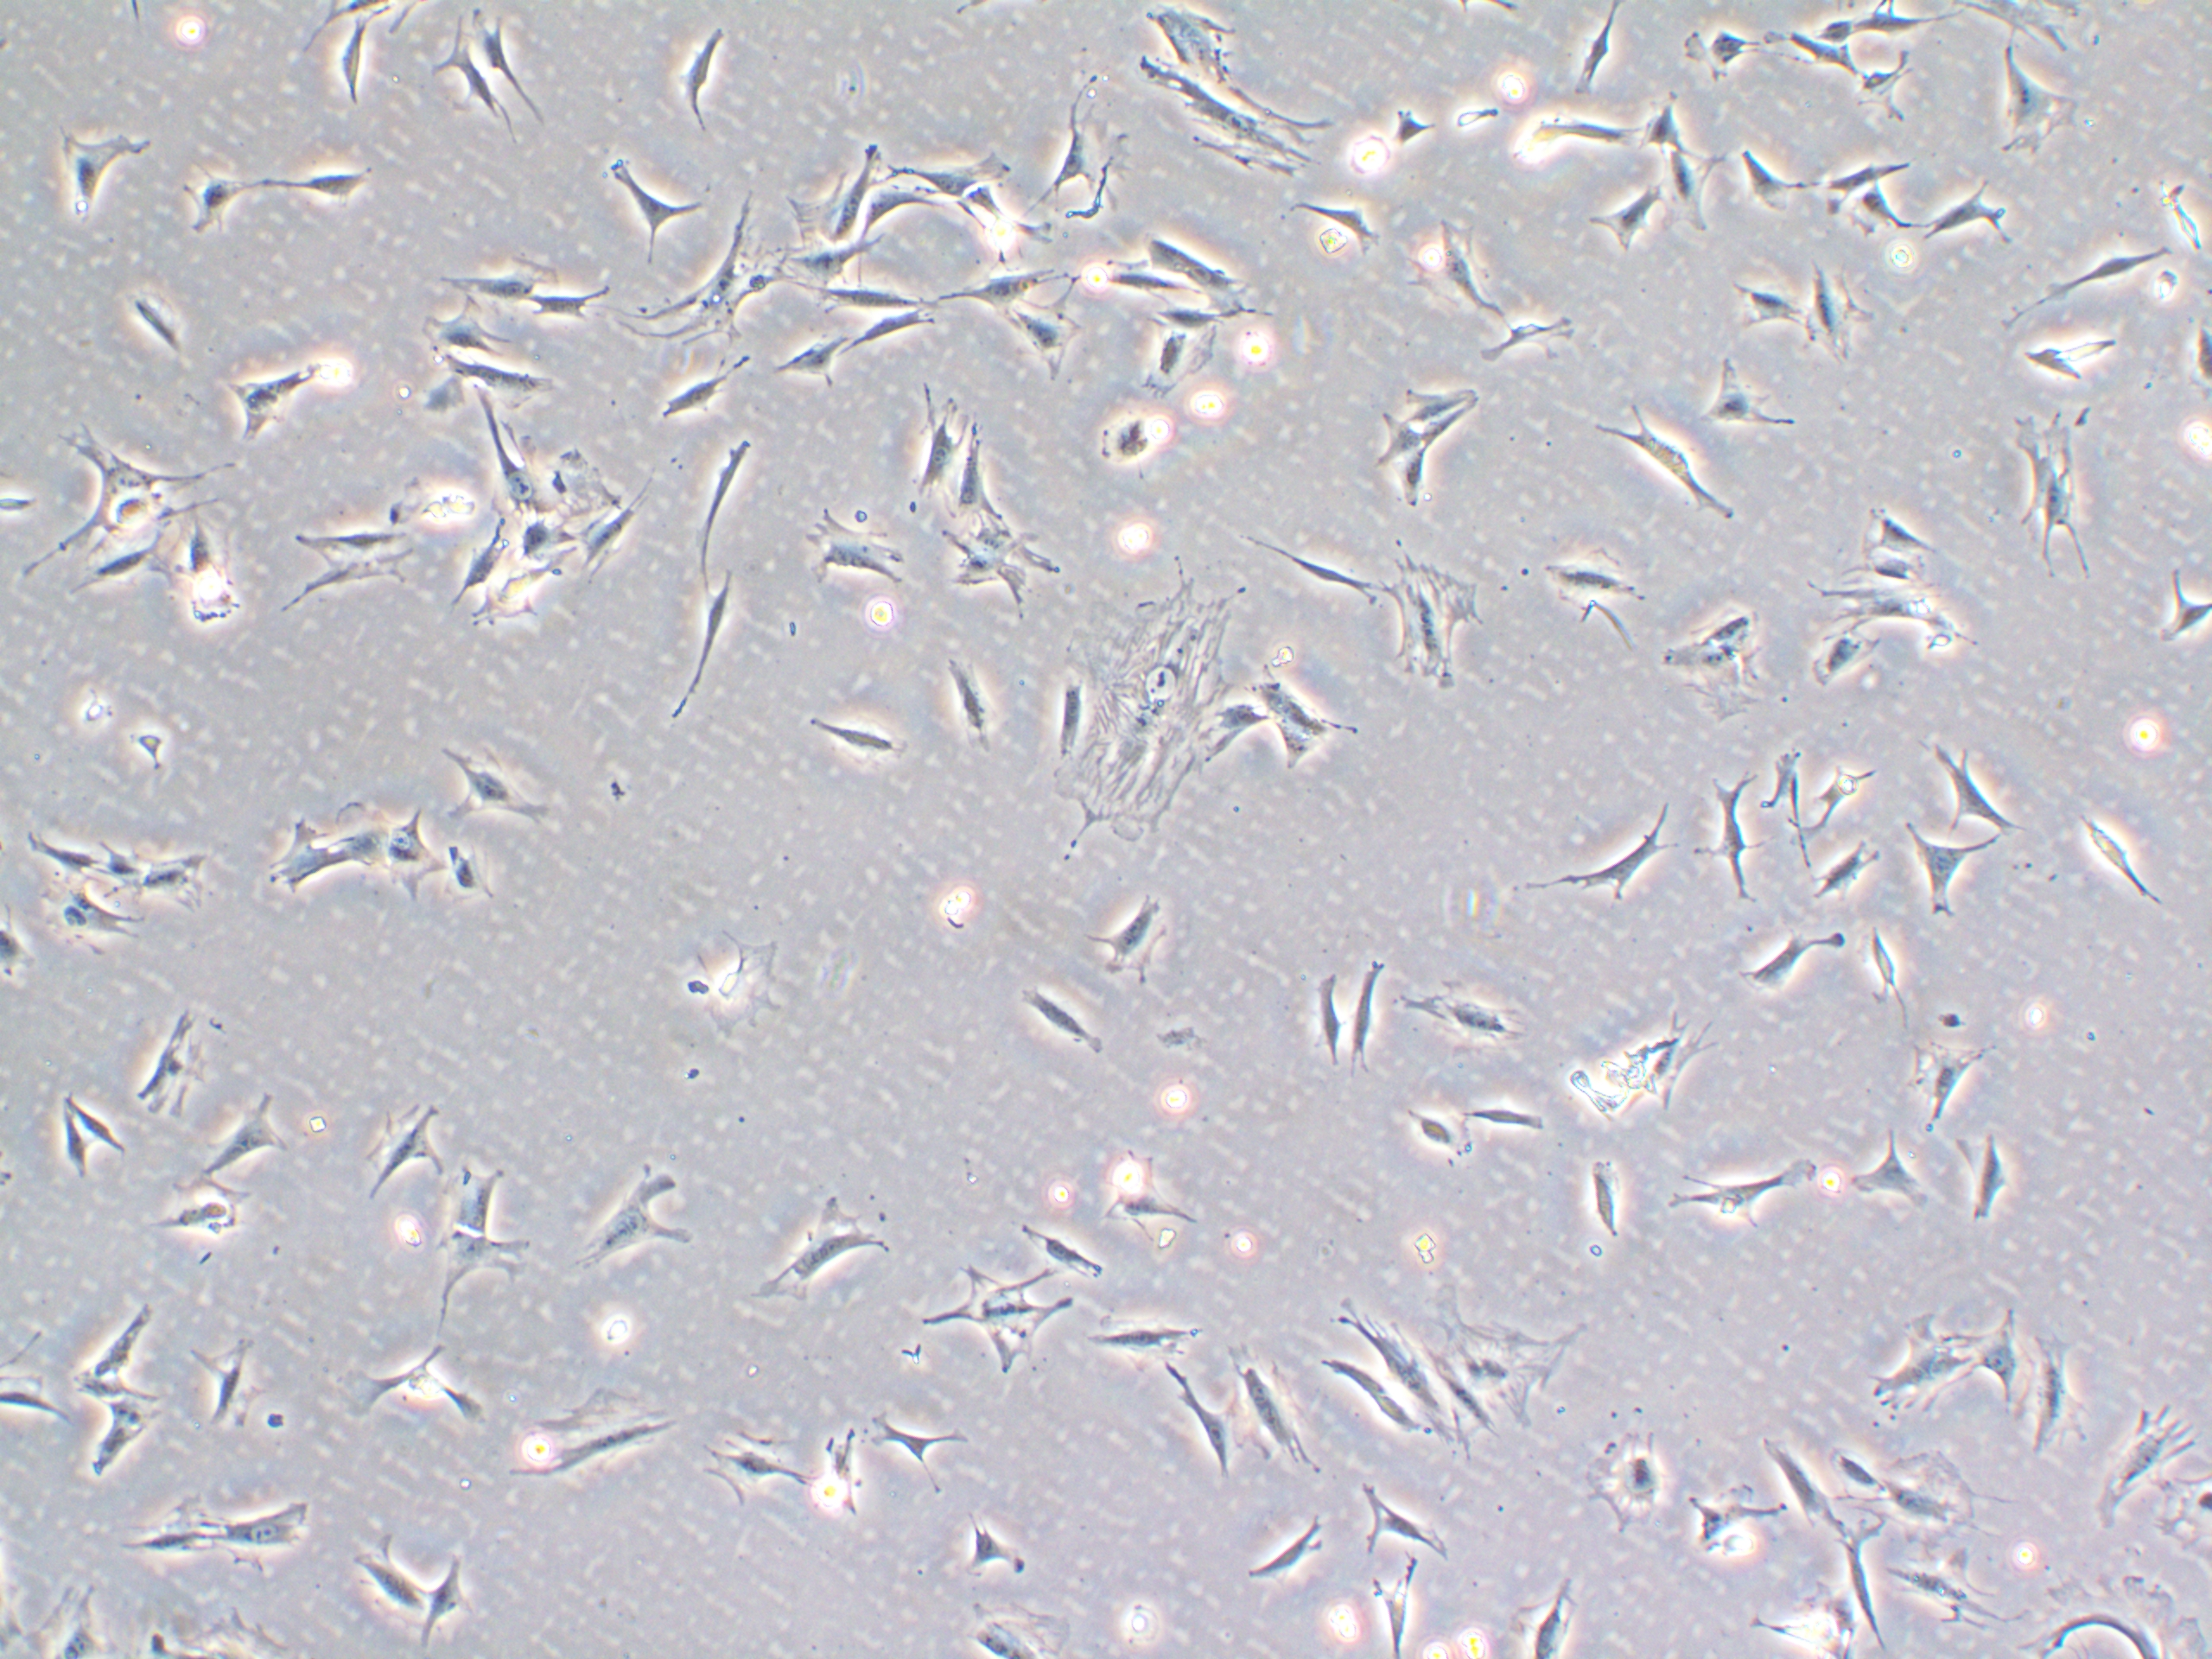small: (113, 714, 183, 786)
spread: (1029, 551, 1263, 845), (40, 422, 225, 591), (1423, 1270, 1604, 1434), (1123, 47, 1332, 183), (503, 1377, 704, 1514), (1984, 387, 2101, 584), (1366, 542, 1505, 702), (920, 1258, 1083, 1380), (1836, 1303, 1989, 1432), (2024, 1298, 2118, 1504), (1648, 577, 1778, 720), (1573, 1417, 1688, 1542)
